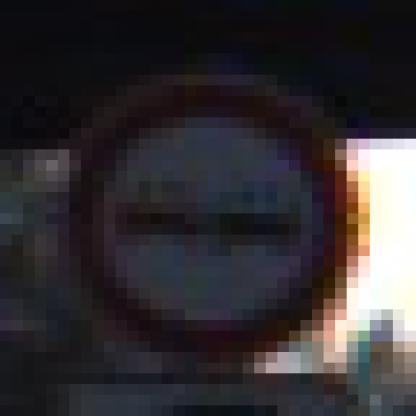No Overtaking: (59, 65, 359, 364)
